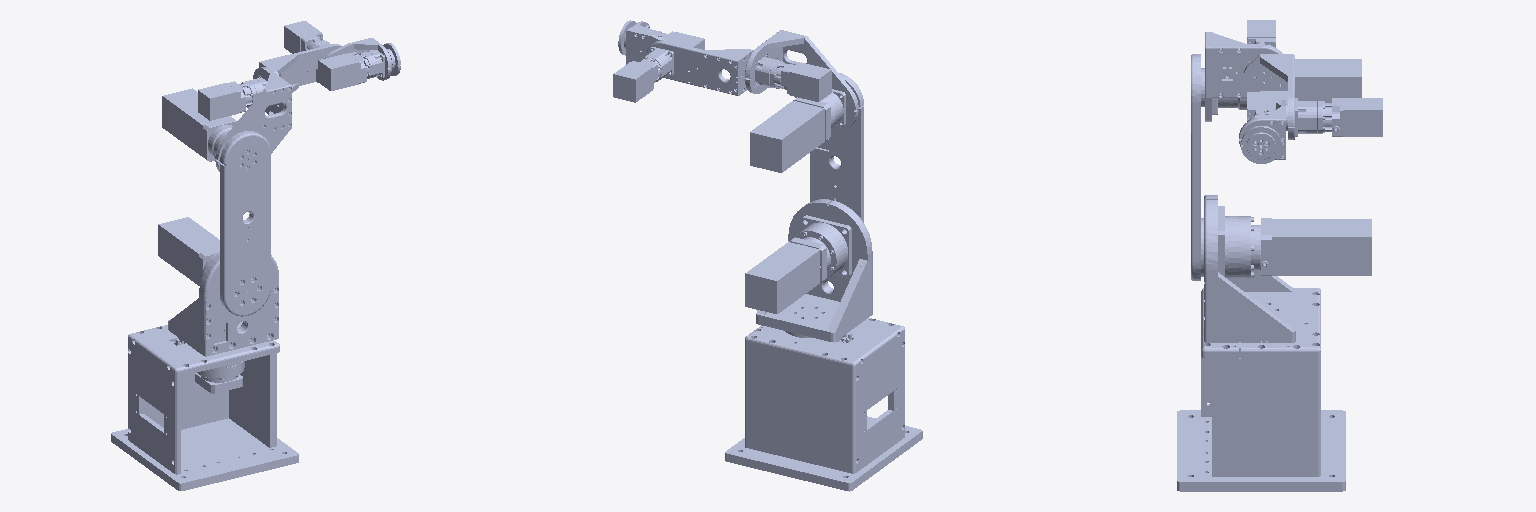
The robot description file, URDF, robot "mini_bot":
<robot
  name="mini_bot">
  <link
    name="base_link">
    <inertial>
      <origin
        xyz="-0.0209 0.014014 0.10674"
        rpy="0 0 0" />
      <mass
        value="3.0361" />
      <inertia
        ixx="0.029082"
        ixy="0.00017866"
        ixz="-0.00069921"
        iyy="0.034115"
        iyz="-2.7854E-05"
        izz="0.024101" />
    </inertial>
    <visual>
      <origin
        xyz="0 0 0"
        rpy="0 0 0" />
      <geometry>
        <mesh
          filename="package://mini_bot/meshes/base_link.STL" />
      </geometry>
      <material
        name="">
        <color
          rgba="0.79216 0.81961 0.93333 1" />
      </material>
    </visual>
    <collision>
      <origin
        xyz="0 0 0"
        rpy="0 0 0" />
      <geometry>
        <mesh
          filename="package://mini_bot/meshes/base_link.STL" />
      </geometry>
    </collision>
  </link>
  <link
    name="A1_Link">
    <inertial>
      <origin
        xyz="0.00013196 -0.0051908 -0.026476"
        rpy="0 0 0" />
      <mass
        value="1.8294" />
      <inertia
        ixx="0.012589"
        ixy="1.9683E-05"
        ixz="1.2814E-05"
        iyy="0.0065171"
        iyz="-0.00097038"
        izz="0.010664" />
    </inertial>
    <visual>
      <origin
        xyz="0 0 0"
        rpy="0 0 0" />
      <geometry>
        <mesh
          filename="package://mini_bot/meshes/A1_Link.STL" />
      </geometry>
      <material
        name="">
        <color
          rgba="0.79216 0.81961 0.93333 1" />
      </material>
    </visual>
    <collision>
      <origin
        xyz="0 0 0"
        rpy="0 0 0" />
      <geometry>
        <mesh
          filename="package://mini_bot/meshes/A1_Link.STL" />
      </geometry>
    </collision>
  </link>
  <joint
    name="Joint1"
    type="revolute">
    <origin
      xyz="0 0 0.339"
      rpy="0 0 0" />
    <parent
      link="base_link" />
    <child
      link="A1_Link" />
    <axis
      xyz="0 0 1" />
    <limit
      lower="-2.617993878"
      upper="3.019419606"
      effort="0"
      velocity="0" />
  </joint>
  <link
    name="A2_Link">
    <inertial>
      <origin
        xyz="0.20665 0.00010564 0.010623"
        rpy="0 0 0" />
      <mass
        value="1.199" />
      <inertia
        ixx="0.0082944"
        ixy="3.8291E-06"
        ixz="0.0043024"
        iyy="0.015732"
        iyz="-8.8505E-06"
        izz="0.0085276" />
    </inertial>
    <visual>
      <origin
        xyz="0 0 0"
        rpy="0 0 0" />
      <geometry>
        <mesh
          filename="package://mini_bot/meshes/A2_Link.STL" />
      </geometry>
      <material
        name="">
        <color
          rgba="0.79216 0.81961 0.93333 1" />
      </material>
    </visual>
    <collision>
      <origin
        xyz="0 0 0"
        rpy="0 0 0" />
      <geometry>
        <mesh
          filename="package://mini_bot/meshes/A2_Link.STL" />
      </geometry>
    </collision>
  </link>
  <joint
    name="Joint2"
    type="revolute">
    <origin
      xyz="0 0 0"
      rpy="1.5708 -1.5708 0" />
    <parent
      link="A1_Link" />
    <child
      link="A2_Link" />
    <axis
      xyz="0 0 1" />
    <limit
      lower="-1.6057029118"
      upper="1.9198621772"
      effort="0"
      velocity="0" />
  </joint>
  <link
    name="A3_Link">
    <inertial>
      <origin
        xyz="0.059711 -0.045937 0.026993"
        rpy="0 0 0" />
      <mass
        value="0.41277" />
      <inertia
        ixx="0.0012728"
        ixy="0.00014125"
        ixz="0.00020523"
        iyy="0.00091925"
        iyz="-1.0099E-05"
        izz="0.001128" />
    </inertial>
    <visual>
      <origin
        xyz="0 0 0"
        rpy="0 0 0" />
      <geometry>
        <mesh
          filename="package://mini_bot/meshes/A3_Link.STL" />
      </geometry>
      <material
        name="">
        <color
          rgba="0.79216 0.81961 0.93333 1" />
      </material>
    </visual>
    <collision>
      <origin
        xyz="0 0 0"
        rpy="0 0 0" />
      <geometry>
        <mesh
          filename="package://mini_bot/meshes/A3_Link.STL" />
      </geometry>
    </collision>
  </link>
  <joint
    name="Joint3"
    type="revolute">
    <origin
      xyz="0.25 0 0"
      rpy="-2.2725E-16 -5.2703E-15 1.4452E-30" />
    <parent
      link="A2_Link" />
    <child
      link="A3_Link" />
    <axis
      xyz="0 0 1" />
    <limit
      lower="-1.0821041362"
      upper="2.5307274154"
      effort="0"
      velocity="0" />
  </joint>
  <link
    name="A4_Link">
    <inertial>
      <origin
        xyz="0.00042233 -0.079522 -0.032498"
        rpy="0 0 0" />
      <mass
        value="0.34299" />
      <inertia
        ixx="0.001756"
        ixy="-5.3895E-06"
        ixz="3.2318E-06"
        iyy="0.001026"
        iyz="0.00055859"
        izz="0.00089914" />
    </inertial>
    <visual>
      <origin
        xyz="0 0 0"
        rpy="0 0 0" />
      <geometry>
        <mesh
          filename="package://mini_bot/meshes/A4_Link.STL" />
      </geometry>
      <material
        name="">
        <color
          rgba="0.79216 0.81961 0.93333 1" />
      </material>
    </visual>
    <collision>
      <origin
        xyz="0 0 0"
        rpy="0 0 0" />
      <geometry>
        <mesh
          filename="package://mini_bot/meshes/A4_Link.STL" />
      </geometry>
    </collision>
  </link>
  <joint
    name="Joint4"
    type="revolute">
    <origin
      xyz="0.07 -0.25 0"
      rpy="1.5708 3.1178E-08 -6.8815E-16" />
    <parent
      link="A3_Link" />
    <child
      link="A4_Link" />
    <axis
      xyz="0 0 1" />
    <limit
      lower="-2.0943951024"
      upper="3.0805061298"
      effort="0"
      velocity="0" />
  </joint>
  <link
    name="A5_Link">
    <inertial>
      <origin
        xyz="0.00046447 -0.023653 -0.0050734"
        rpy="0 0 0" />
      <mass
        value="0.24686" />
      <inertia
        ixx="0.00038298"
        ixy="3.7652E-06"
        ixz="2.2688E-06"
        iyy="0.00010941"
        iyz="-1.3541E-05"
        izz="0.00036694" />
    </inertial>
    <visual>
      <origin
        xyz="0 0 0"
        rpy="0 0 0" />
      <geometry>
        <mesh
          filename="package://mini_bot/meshes/A5_Link.STL" />
      </geometry>
      <material
        name="">
        <color
          rgba="0.79216 0.81961 0.93333 1" />
      </material>
    </visual>
    <collision>
      <origin
        xyz="0 0 0"
        rpy="0 0 0" />
      <geometry>
        <mesh
          filename="package://mini_bot/meshes/A5_Link.STL" />
      </geometry>
    </collision>
  </link>
  <joint
    name="Joint5"
    type="revolute">
    <origin
      xyz="0 0 0"
      rpy="-1.5708 -1.6127E-15 0" />
    <parent
      link="A4_Link" />
    <child
      link="A5_Link" />
    <axis
      xyz="0 0 1" />
    <limit
      lower="-1.8325957146"
      upper="1.8325957146"
      effort="0"
      velocity="0" />
  </joint>
  <link
    name="A6_Link">
    <inertial>
      <origin
        xyz="0.00014188 -5.3914E-05 -0.0038782"
        rpy="0 0 0" />
      <mass
        value="0.024508" />
      <inertia
        ixx="4.4973E-06"
        ixy="6.675E-10"
        ixz="-3.4479E-09"
        iyy="4.4429E-06"
        iyz="1.4991E-09"
        izz="8.2691E-06" />
    </inertial>
    <visual>
      <origin
        xyz="0 0 0"
        rpy="0 0 0" />
      <geometry>
        <mesh
          filename="package://mini_bot/meshes/A6_Link.STL" />
      </geometry>
      <material
        name="">
        <color
          rgba="0.79216 0.81961 0.93333 1" />
      </material>
    </visual>
    <collision>
      <origin
        xyz="0 0 0"
        rpy="0 0 0" />
      <geometry>
        <mesh
          filename="package://mini_bot/meshes/A6_Link.STL" />
      </geometry>
    </collision>
  </link>
  <joint
    name="Joint6"
    type="continuous">
    <origin
      xyz="0 -0.095 0"
      rpy="1.5708 -3.1178E-08 6.6325E-13" />
    <parent
      link="A5_Link" />
    <child
      link="A6_Link" />
    <axis
      xyz="0 0 1" />
    <limit
      lower="-3.1415926536"
      upper="3.1415926536"
      effort="0"
      velocity="0" />
  </joint>
</robot>

--- Facts derived from the render (not from the file) ---
3 views of the same robot in one strip: view 1: azimuth 30°, elevation 25°; view 2: azimuth 150°, elevation 25°; view 3: azimuth 270°, elevation 25° (orthographic).
Robot: mini_bot — 7 links, 6 joints (5 revolute, 1 continuous); root link base_link; default pose: every joint at zero.
Links seen in each view (by area): view 1: base_link, A2_Link, A1_Link, A3_Link, A5_Link, A4_Link; view 2: base_link, A1_Link, A2_Link, A4_Link, A3_Link, A5_Link; view 3: base_link, A1_Link, A2_Link, A4_Link, A3_Link, A5_Link, A6_Link.
Boxes of the visible links, <box> form: base_link: <box>111,325,298,490</box>; A2_Link: <box>162,88,270,316</box>; A1_Link: <box>158,217,278,356</box>; A3_Link: <box>198,67,291,171</box>; A5_Link: <box>318,38,391,90</box>; A4_Link: <box>259,21,341,92</box>; base_link: <box>725,318,922,491</box>; A1_Link: <box>745,199,872,341</box>; A2_Link: <box>750,73,863,222</box>; A4_Link: <box>613,40,753,102</box>; A3_Link: <box>745,30,858,131</box>; A5_Link: <box>626,21,704,64</box>; base_link: <box>1177,288,1345,491</box>; A1_Link: <box>1201,195,1371,342</box>; A2_Link: <box>1191,54,1361,280</box>; A4_Link: <box>1244,54,1382,139</box>; A3_Link: <box>1205,20,1282,121</box>; A5_Link: <box>1239,92,1285,159</box>; A6_Link: <box>1241,126,1281,163</box>.
Size in the robot's own frame: 0.4955 by 0.2928 by 0.699 metres.
7 mesh visuals loaded from 7 distinct referenced files (7 binary STL).